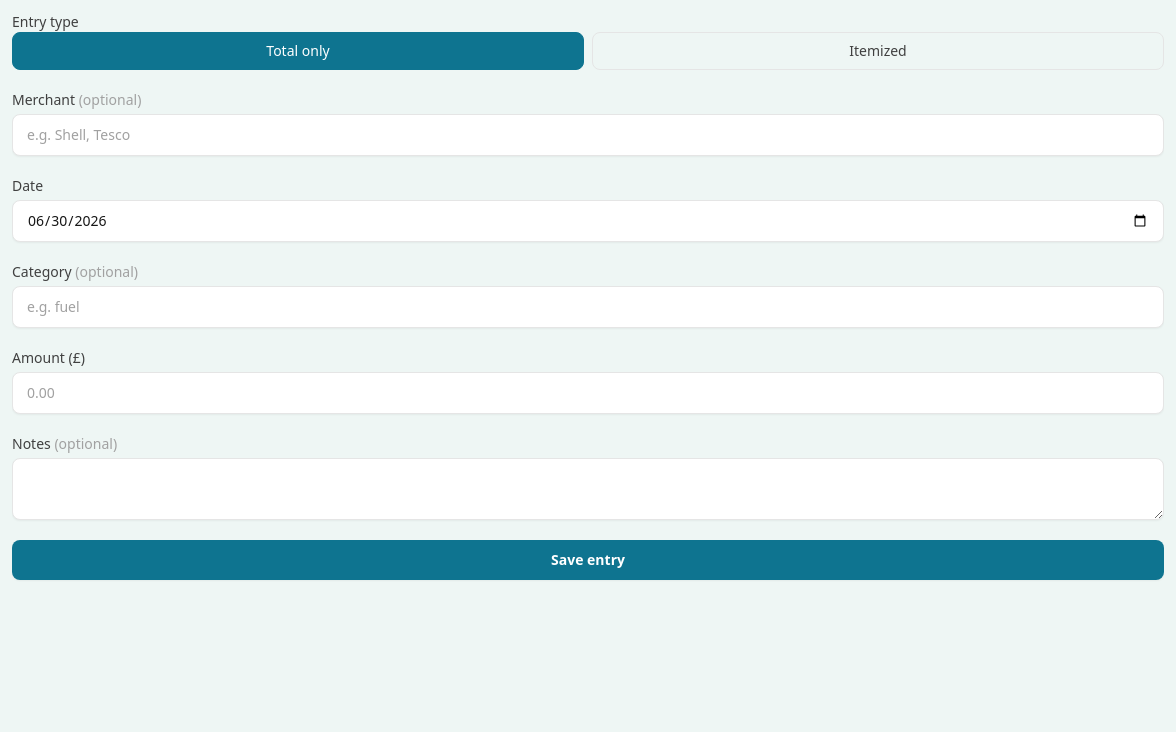
Test: ManualEntryForm › switches to itemized mode and shows item rows
Click the radio button labelled "Itemized": {"x": 878, "y": 51} top-left (592, 32), bottom-right (1164, 70)
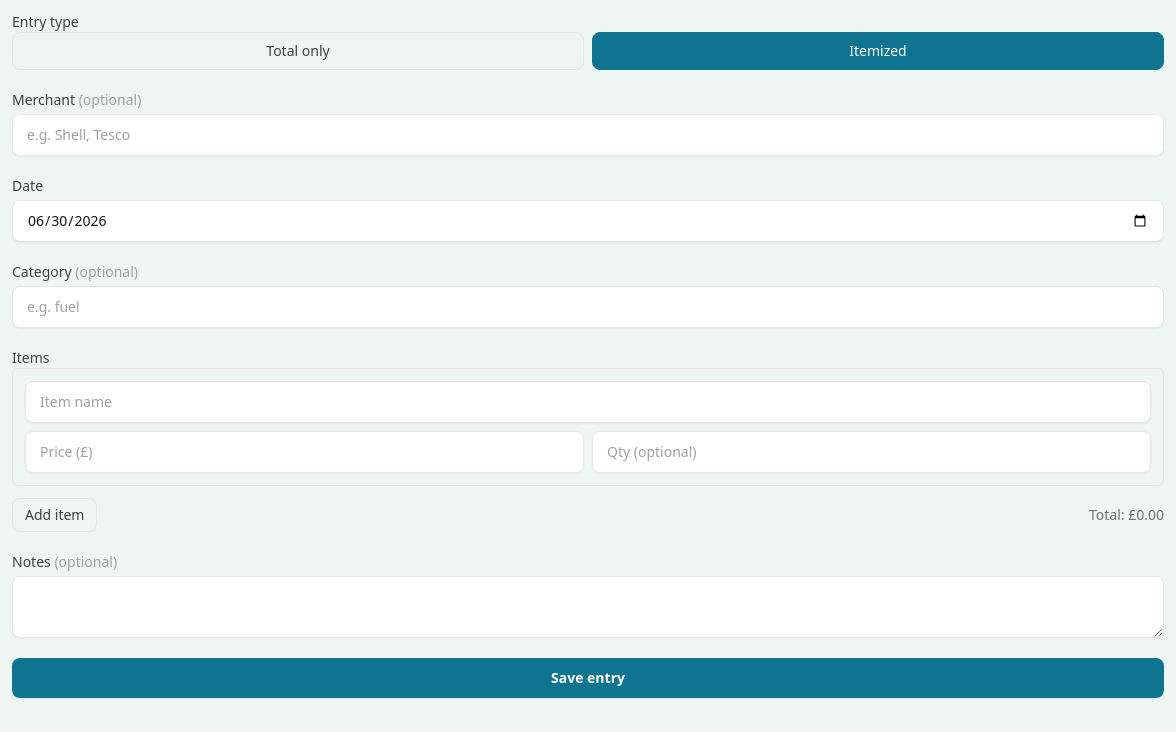
Now the label labelled "Amount" is gone
Now the button "Add item" is shown, box top-left (12, 498), bottom-right (98, 532)
Now the number of elements named "Item 1" is 1, box top-left (12, 368), bottom-right (1164, 486)
